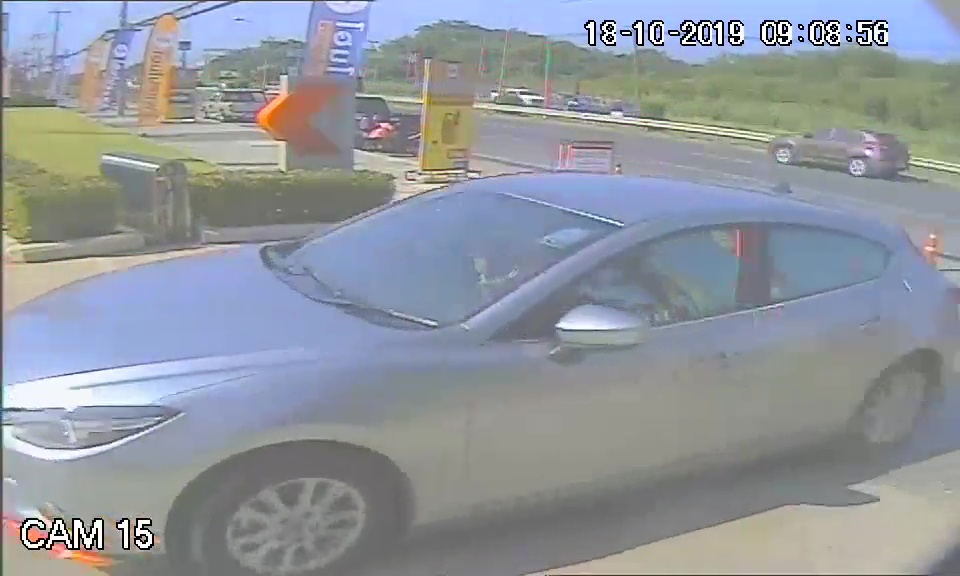sedan: (2, 167, 782, 573)
